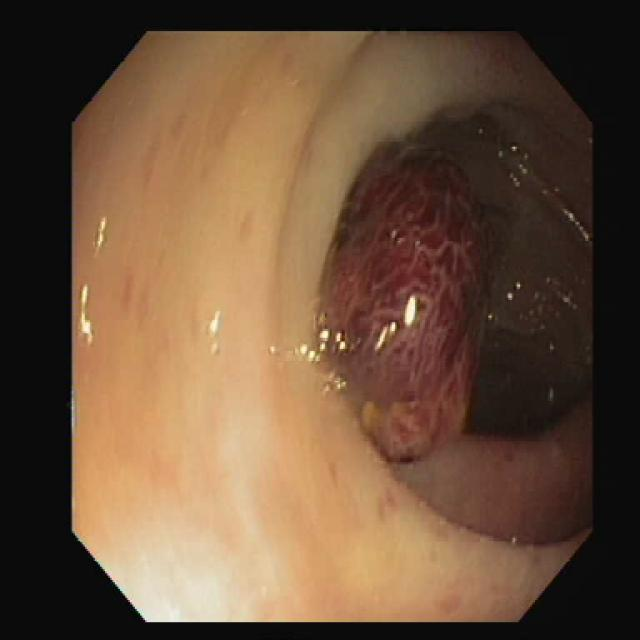tumor: (325, 147, 490, 456)
